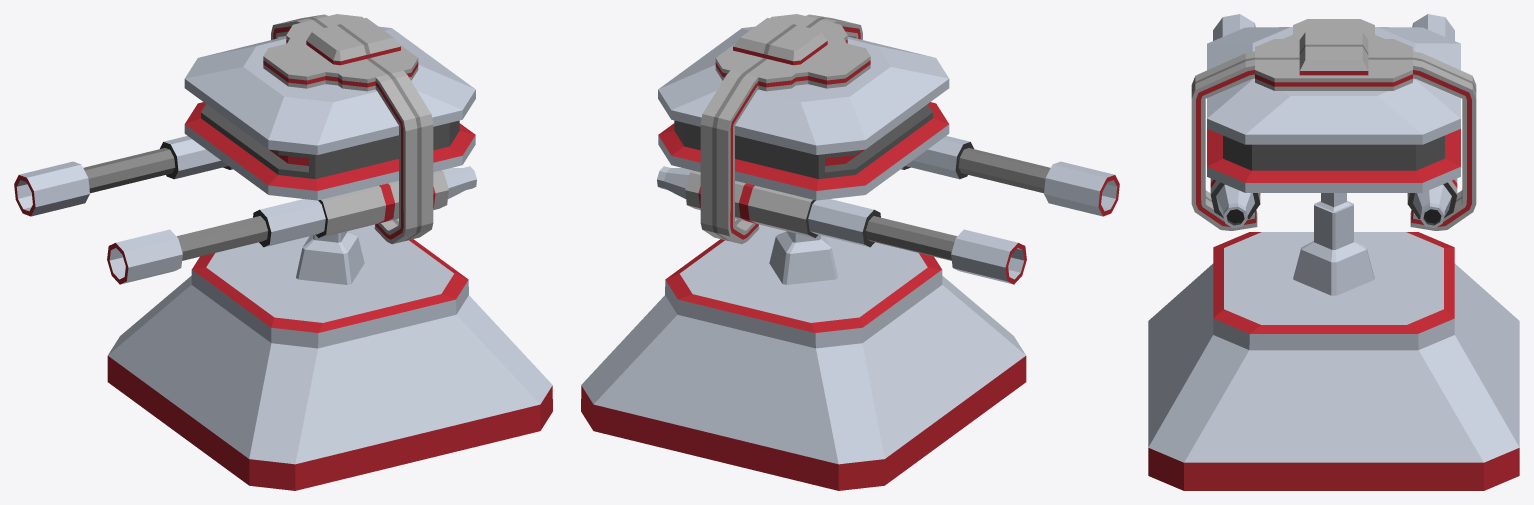
File: MobTurret.glb
3 renders of one model, left to right at view 1: azimuth 30°, elevation 25°; view 2: azimuth 150°, elevation 25°; view 3: azimuth 270°, elevation 25°, orthographic. The views are drawn at different scales.
Parts seen in each view (by area): view 1: Turret, Head; view 2: Turret, Head; view 3: Turret, Head.
Boxes of the visible parts, x1,y1,x2,y2 form: Turret: [107, 224, 552, 490]; Head: [14, 14, 476, 284]; Turret: [581, 224, 1026, 490]; Head: [657, 14, 1119, 284]; Turret: [1148, 193, 1519, 490]; Head: [1191, 14, 1476, 230].
Bounding box in the file's own units: 2.14 × 1.78 × 1.58.
Materials: 1 (1 with a texture image).
